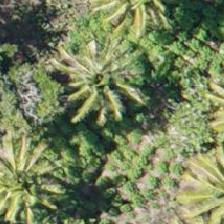coconut_tree: (59, 37, 149, 127), (0, 143, 64, 223)
